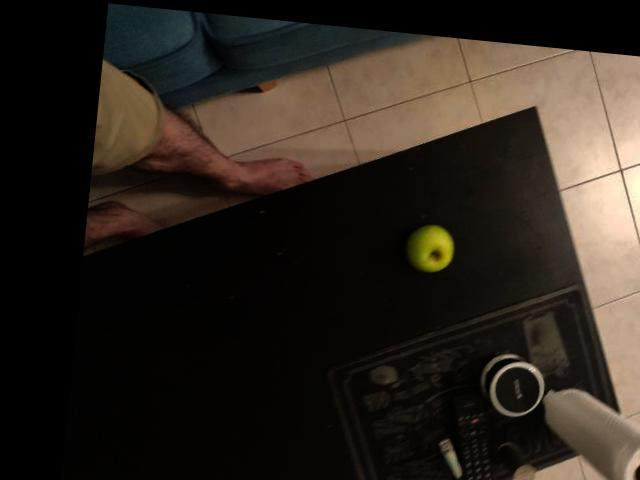apple: (479, 185, 547, 259)
